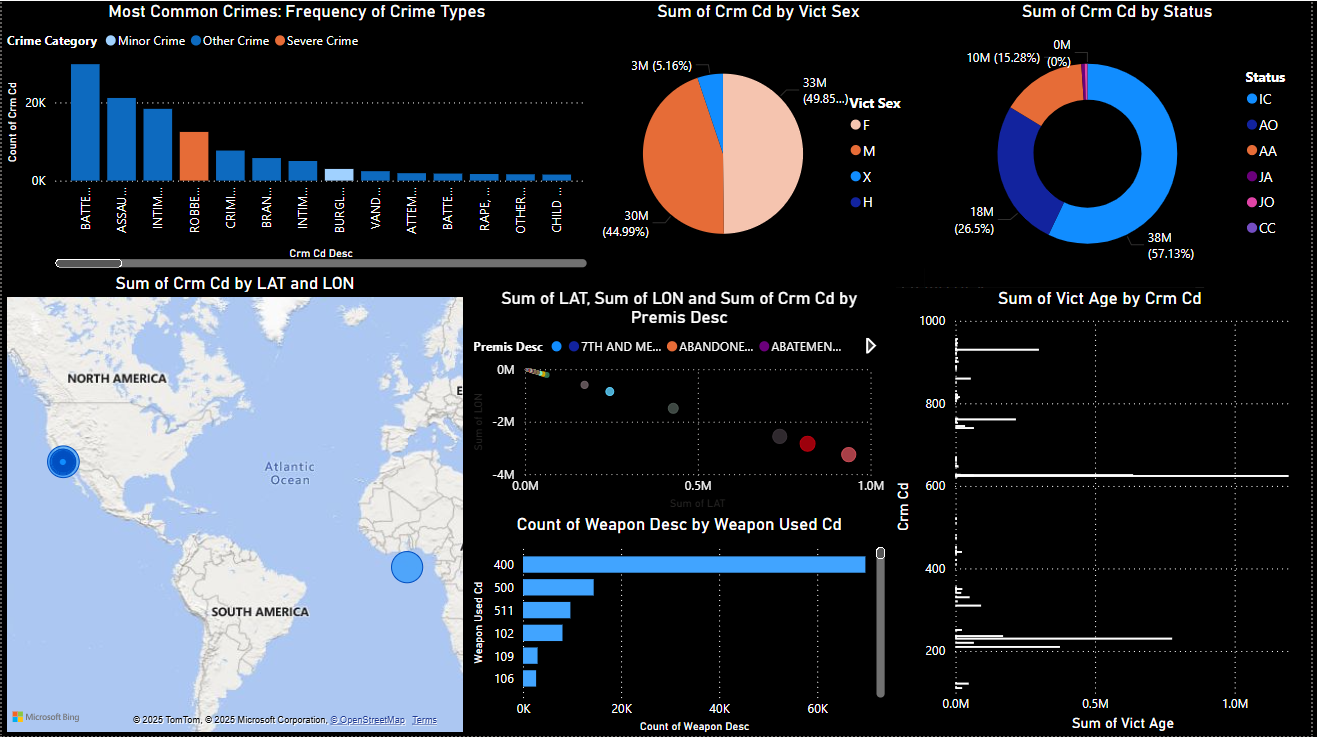

This screenshot's page, from the dashboard's own definition file:
{"tool":"powerbi","page":{"name":"Duplicate of Page 1","canvas":[1280,720],"ordinal":1},"visuals":[{"type":"actionButton","box":[0,0,100,40],"z":1000},{"type":"columnChart","title":"Most Common Crimes: Frequency of Crime Types","fields":{"Category":["Crime_Data_from_2020_to_Present.Crm Cd Desc"],"Y":["CountNonNull(Crime_Data_from_2020_to_Present.Crm Cd)"],"Series":["Crime_Data_from_2020_to_Present.Crime Category"]},"box":[0,0,577.1,265.7],"z":3000},{"type":"barChart","fields":{"Category":["Crime_Data_from_2020_to_Present.Weapon Used Cd"],"Y":["CountNonNull(Crime_Data_from_2020_to_Present.Weapon Desc)"]},"box":[455.7,492.9,412.9,227.1],"z":5000},{"type":"map","fields":{"Y":["Crime_Data_from_2020_to_Present.LAT"],"X":["Crime_Data_from_2020_to_Present.LON"],"Size":["Sum(Crime_Data_from_2020_to_Present.Crm Cd)"]},"box":[0,265.7,455.7,454.3],"z":6000},{"type":"tableEx","fields":{"Values":["Crime_Data_from_2020_to_Present.Premis Desc","Sum(Crime_Data_from_2020_to_Present.Crm Cd)"]},"box":[868.6,257.1,312.9,254.3],"z":7000},{"type":"barChart","fields":{"Category":["Crime_Data_from_2020_to_Present.Crm Cd"],"Y":["Sum(Crime_Data_from_2020_to_Present.Vict Age)"]},"box":[868.6,280,411.4,440],"z":8000},{"type":"pieChart","fields":{"Category":["Crime_Data_from_2020_to_Present.Vict Sex"],"Y":["Sum(Crime_Data_from_2020_to_Present.Crm Cd)"]},"box":[577.1,0,325.7,280],"z":9000},{"type":"donutChart","fields":{"Category":["Crime_Data_from_2020_to_Present.Status"],"Y":["Sum(Crime_Data_from_2020_to_Present.Crm Cd)"]},"box":[902.9,0,377.1,280],"z":10000},{"type":"scatterChart","fields":{"X":["Sum(Crime_Data_from_2020_to_Present.LAT)"],"Y":["Sum(Crime_Data_from_2020_to_Present.LON)"],"Series":["Crime_Data_from_2020_to_Present.Premis Desc"],"Size":["Sum(Crime_Data_from_2020_to_Present.Crm Cd)"]},"box":[455.7,280,412.9,222.9],"z":11000}]}

Visuals, with their boxes in screenshot pixels (x1, y1, x2, y2), scaled from the page's 1280x720 canvas onto the 1317x737 screenshot:
actionButton: [x1=0, y1=0, x2=103, y2=41]
"Most Common Crimes: Frequency of Crime Types" columnChart: [x1=0, y1=0, x2=594, y2=272]
barChart - Crime_Data_from_2020_to_Present.Weapon Used Cd x CountNonNull(Crime_Data_from_2020_to_Present.Weapon Desc): [x1=469, y1=505, x2=894, y2=736]
map - Crime_Data_from_2020_to_Present.LAT x Crime_Data_from_2020_to_Present.LON: [x1=0, y1=272, x2=469, y2=736]
tableEx - Crime_Data_from_2020_to_Present.Premis Desc x Sum(Crime_Data_from_2020_to_Present.Crm Cd): [x1=894, y1=263, x2=1216, y2=523]
barChart - Crime_Data_from_2020_to_Present.Crm Cd x Sum(Crime_Data_from_2020_to_Present.Vict Age): [x1=894, y1=287, x2=1316, y2=736]
pieChart - Crime_Data_from_2020_to_Present.Vict Sex x Sum(Crime_Data_from_2020_to_Present.Crm Cd): [x1=594, y1=0, x2=929, y2=287]
donutChart - Crime_Data_from_2020_to_Present.Status x Sum(Crime_Data_from_2020_to_Present.Crm Cd): [x1=929, y1=0, x2=1316, y2=287]
scatterChart - Sum(Crime_Data_from_2020_to_Present.LAT) x Sum(Crime_Data_from_2020_to_Present.LON): [x1=469, y1=287, x2=894, y2=515]
